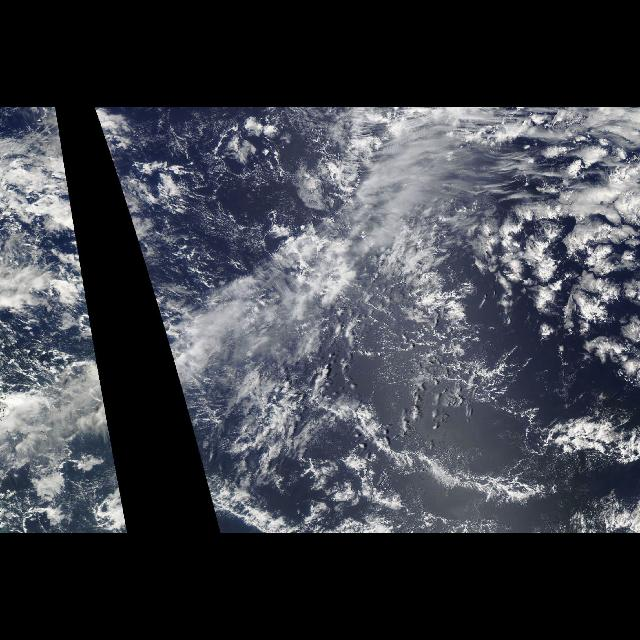Sugar: (373, 301, 635, 529)
